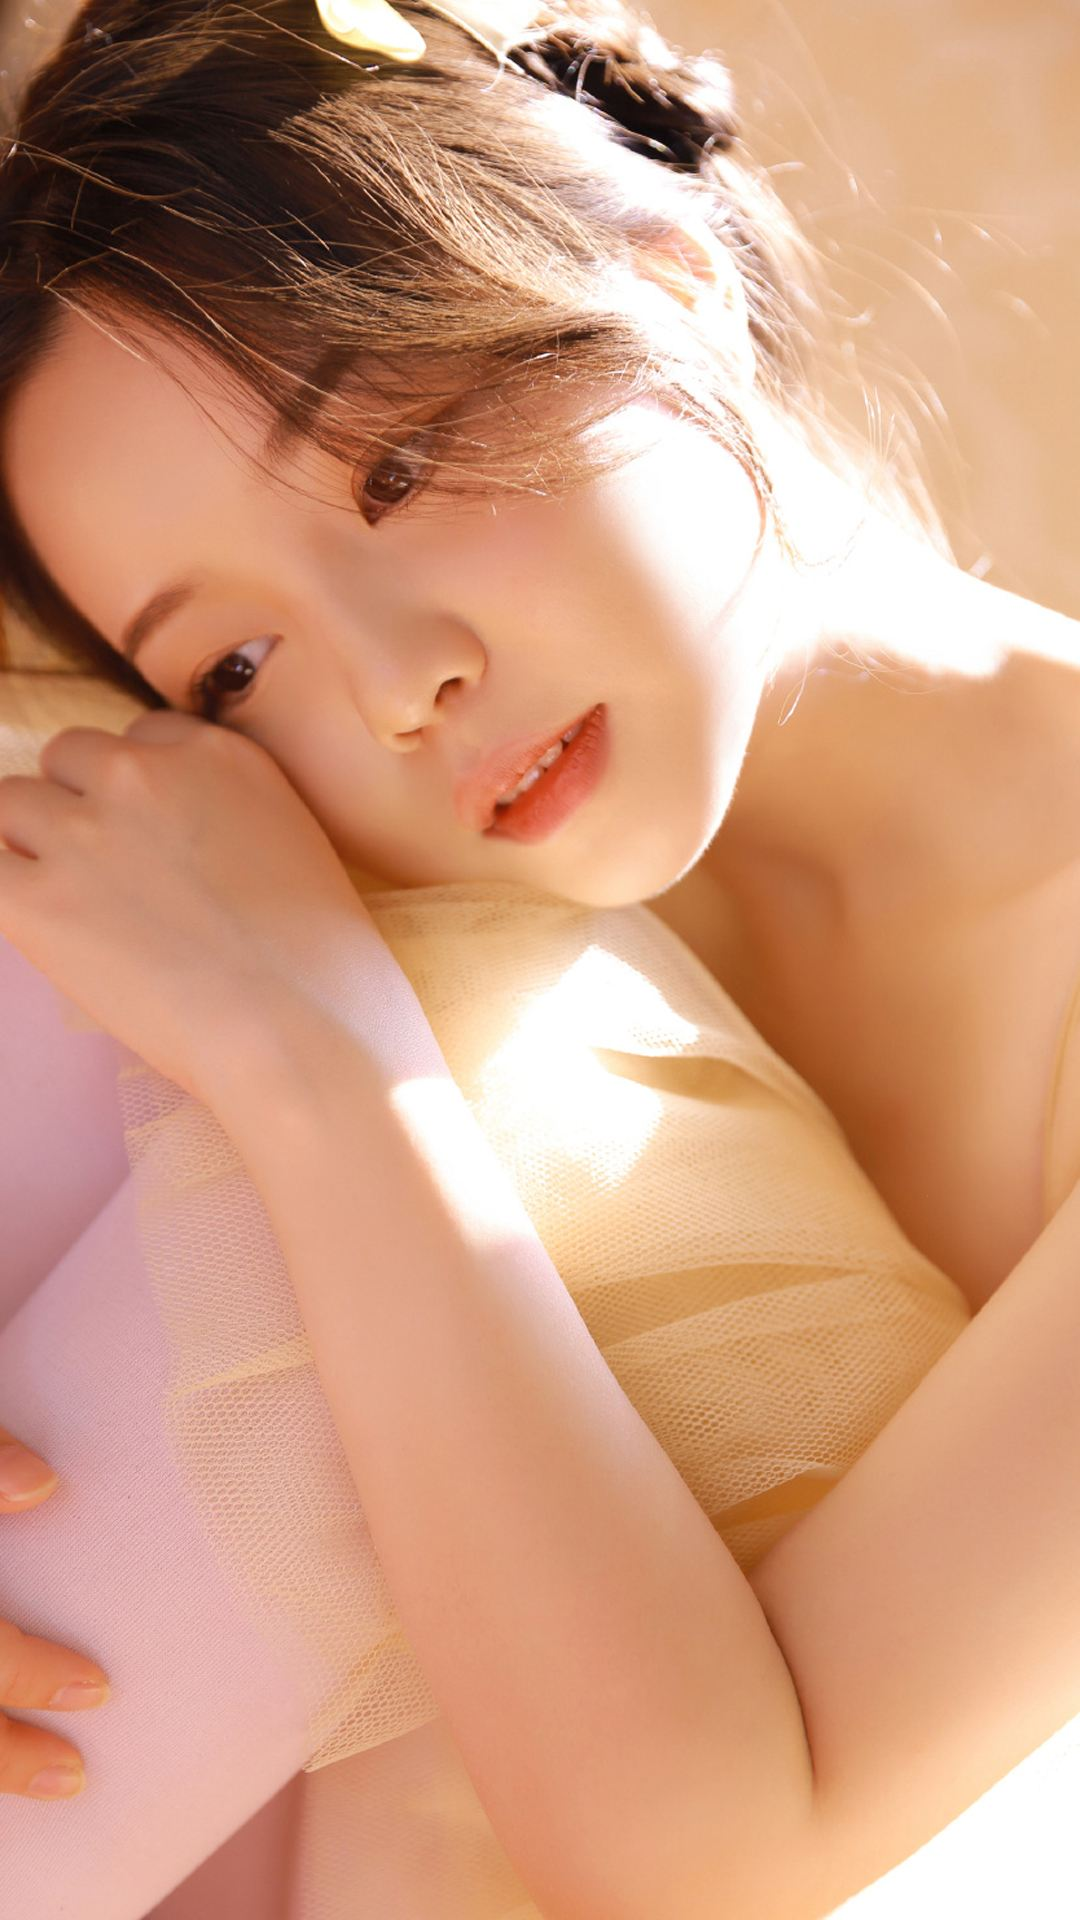person: (18, 25, 1026, 1590)
